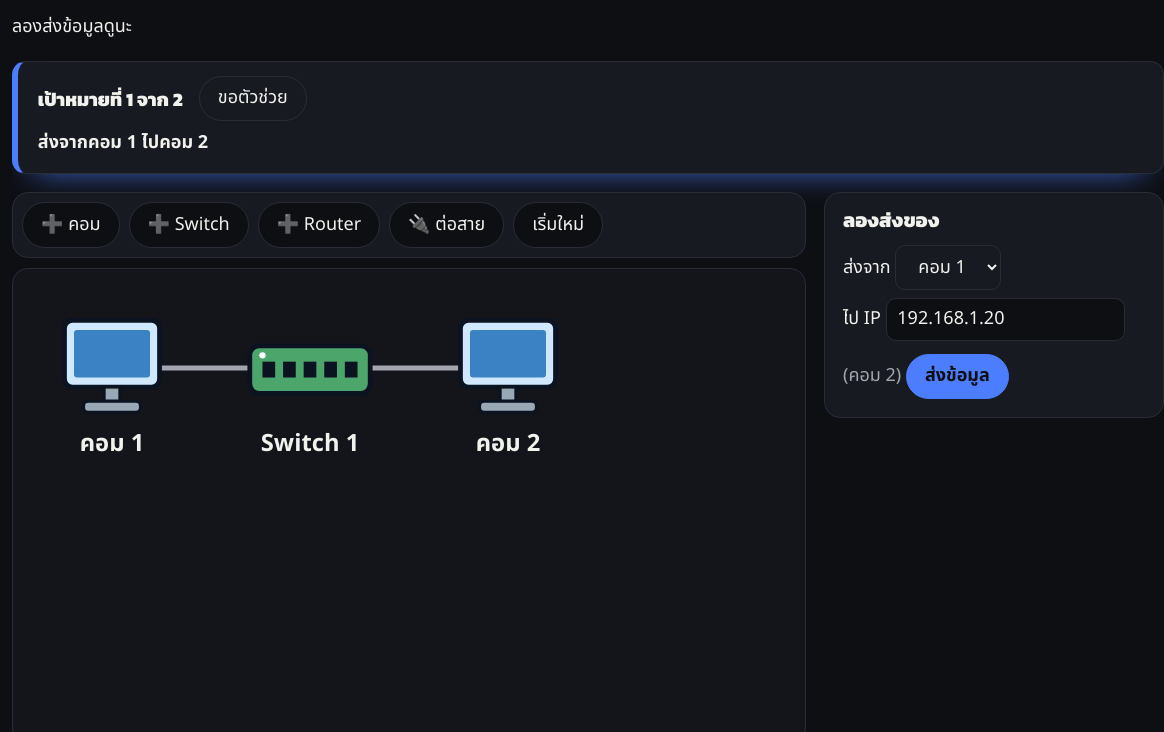
LabView › names the device that owns the destination IP
Expected: the text with test id "lab-dest" reads "(คอม 2)", [848,362,896,389]
Replace the text in the field labelled "ไป IP" with "192.168.1.10" at (1005, 319), box [886,298,1125,341]
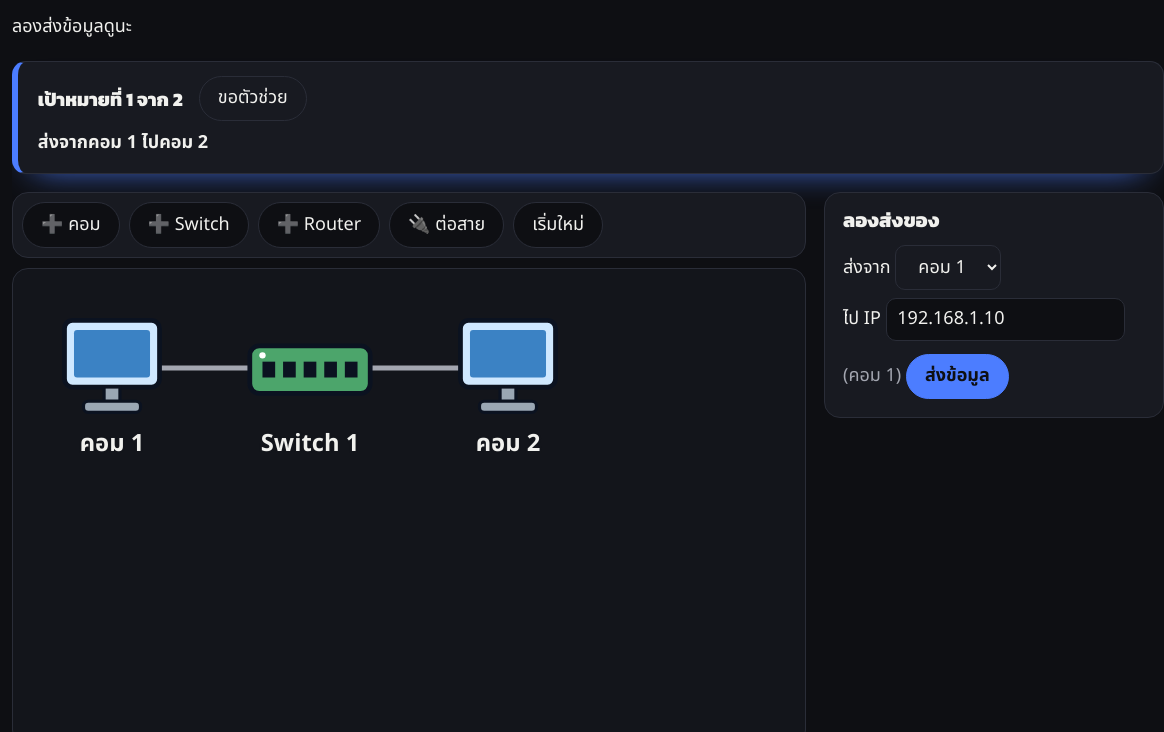
Expected: the text with test id "lab-dest" reads "(คอม 1)", [848,362,896,389]
Replace the text in the field labelled "ไป IP" with "10.0.0.1" at (1005, 319), box [886,298,1125,341]
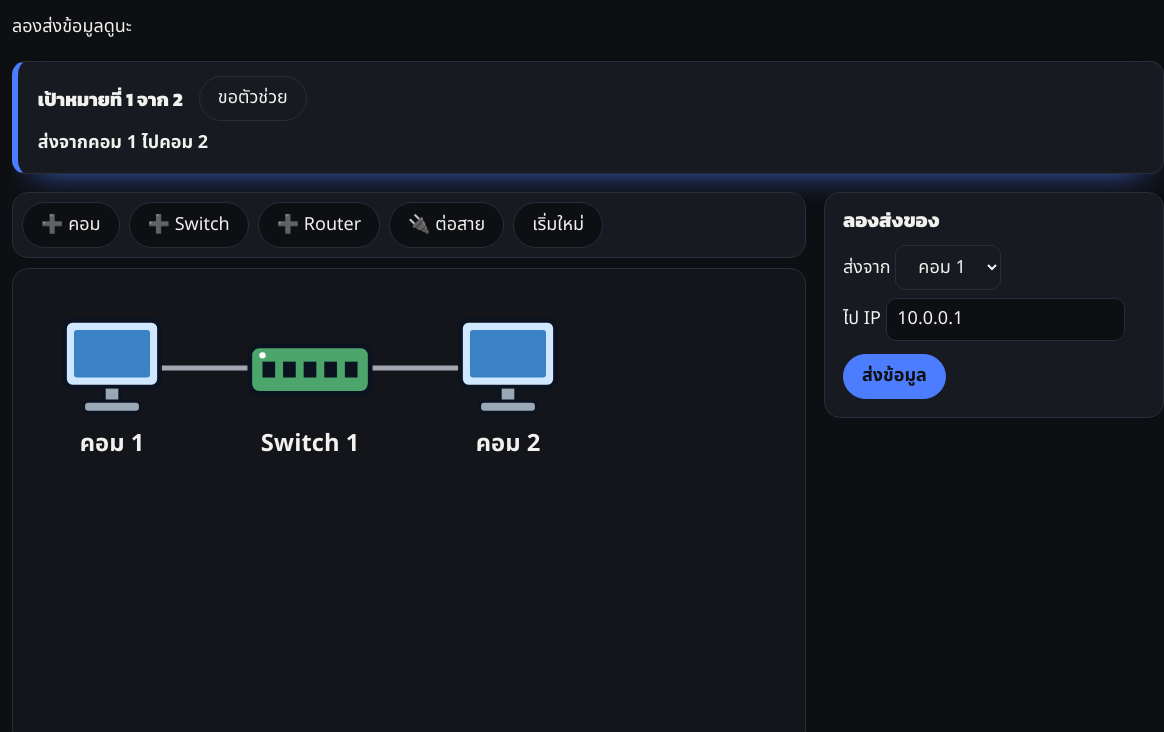
Expected: the text with test id "lab-dest" is gone
